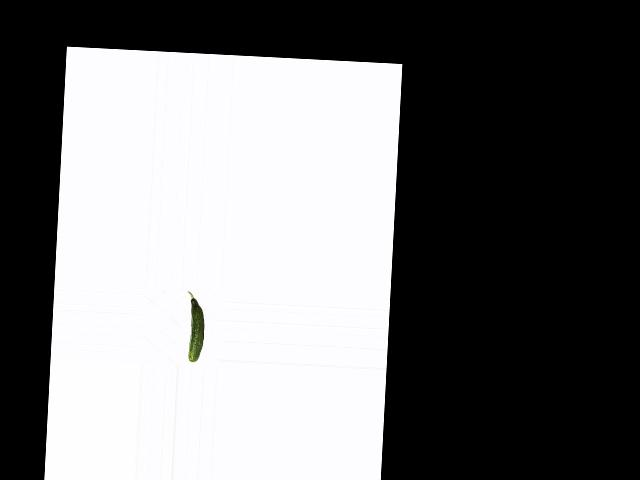cucumber: (184, 290, 206, 362)
